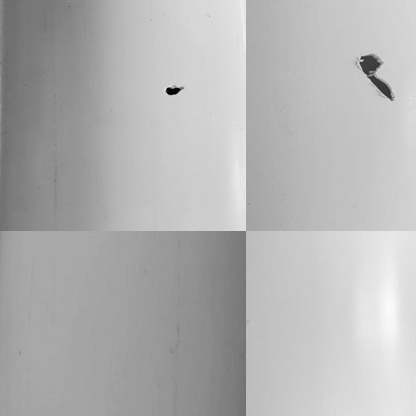kongdong: (355, 52, 395, 100), (164, 82, 184, 97)
